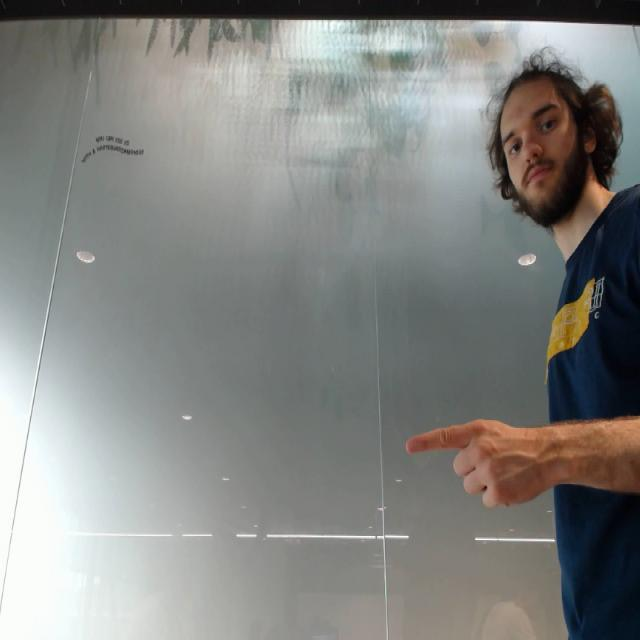left: (405, 417, 555, 514)
